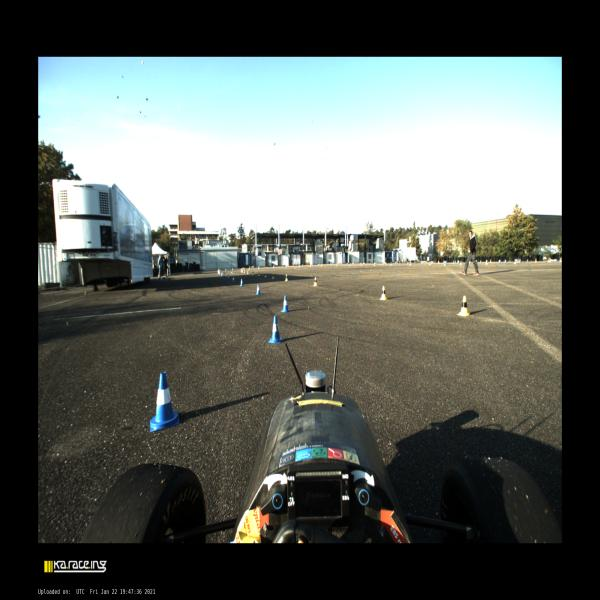blue_cone: (150, 372, 179, 432), (268, 316, 283, 343), (280, 295, 290, 313), (256, 284, 261, 295), (240, 278, 244, 286), (232, 276, 235, 282), (228, 274, 230, 280), (219, 269, 221, 275), (221, 272, 223, 277), (225, 268, 227, 272), (258, 266, 260, 270), (431, 260, 433, 264), (457, 260, 459, 264), (519, 258, 521, 262), (383, 262, 385, 265), (421, 261, 423, 264), (469, 261, 471, 264), (224, 273, 225, 277), (318, 264, 320, 266), (347, 262, 348, 266), (407, 262, 409, 264), (443, 260, 444, 264), (445, 260, 446, 264), (505, 259, 506, 263), (232, 268, 233, 271), (360, 262, 361, 265), (480, 260, 481, 263), (527, 259, 528, 262), (516, 259, 517, 262), (273, 266, 274, 268), (302, 264, 303, 266), (426, 262, 427, 264), (455, 261, 456, 263), (499, 260, 500, 262), (476, 260, 477, 262), (396, 262, 397, 264), (332, 264, 332, 266)
large_orange_cone: (242, 267, 244, 273), (218, 268, 219, 274)
yellow_cone: (456, 296, 470, 316), (379, 286, 387, 300), (313, 277, 317, 286), (285, 274, 288, 281), (272, 273, 275, 279), (547, 258, 551, 262), (485, 260, 488, 265), (559, 258, 562, 262), (514, 259, 516, 264), (534, 258, 536, 262), (460, 261, 462, 265), (444, 261, 446, 265), (390, 262, 392, 266), (264, 274, 266, 278), (258, 272, 260, 276), (252, 271, 254, 275), (247, 270, 249, 274), (429, 262, 431, 265), (517, 259, 519, 262), (360, 263, 362, 266), (244, 268, 245, 273), (158, 272, 159, 277), (453, 260, 454, 264), (438, 260, 439, 264), (374, 262, 375, 266), (241, 268, 242, 272), (298, 265, 300, 267), (336, 264, 338, 266), (410, 262, 411, 265), (350, 263, 351, 266), (286, 265, 287, 268), (490, 260, 491, 262), (321, 264, 322, 266), (249, 268, 250, 270), (310, 264, 311, 266)
